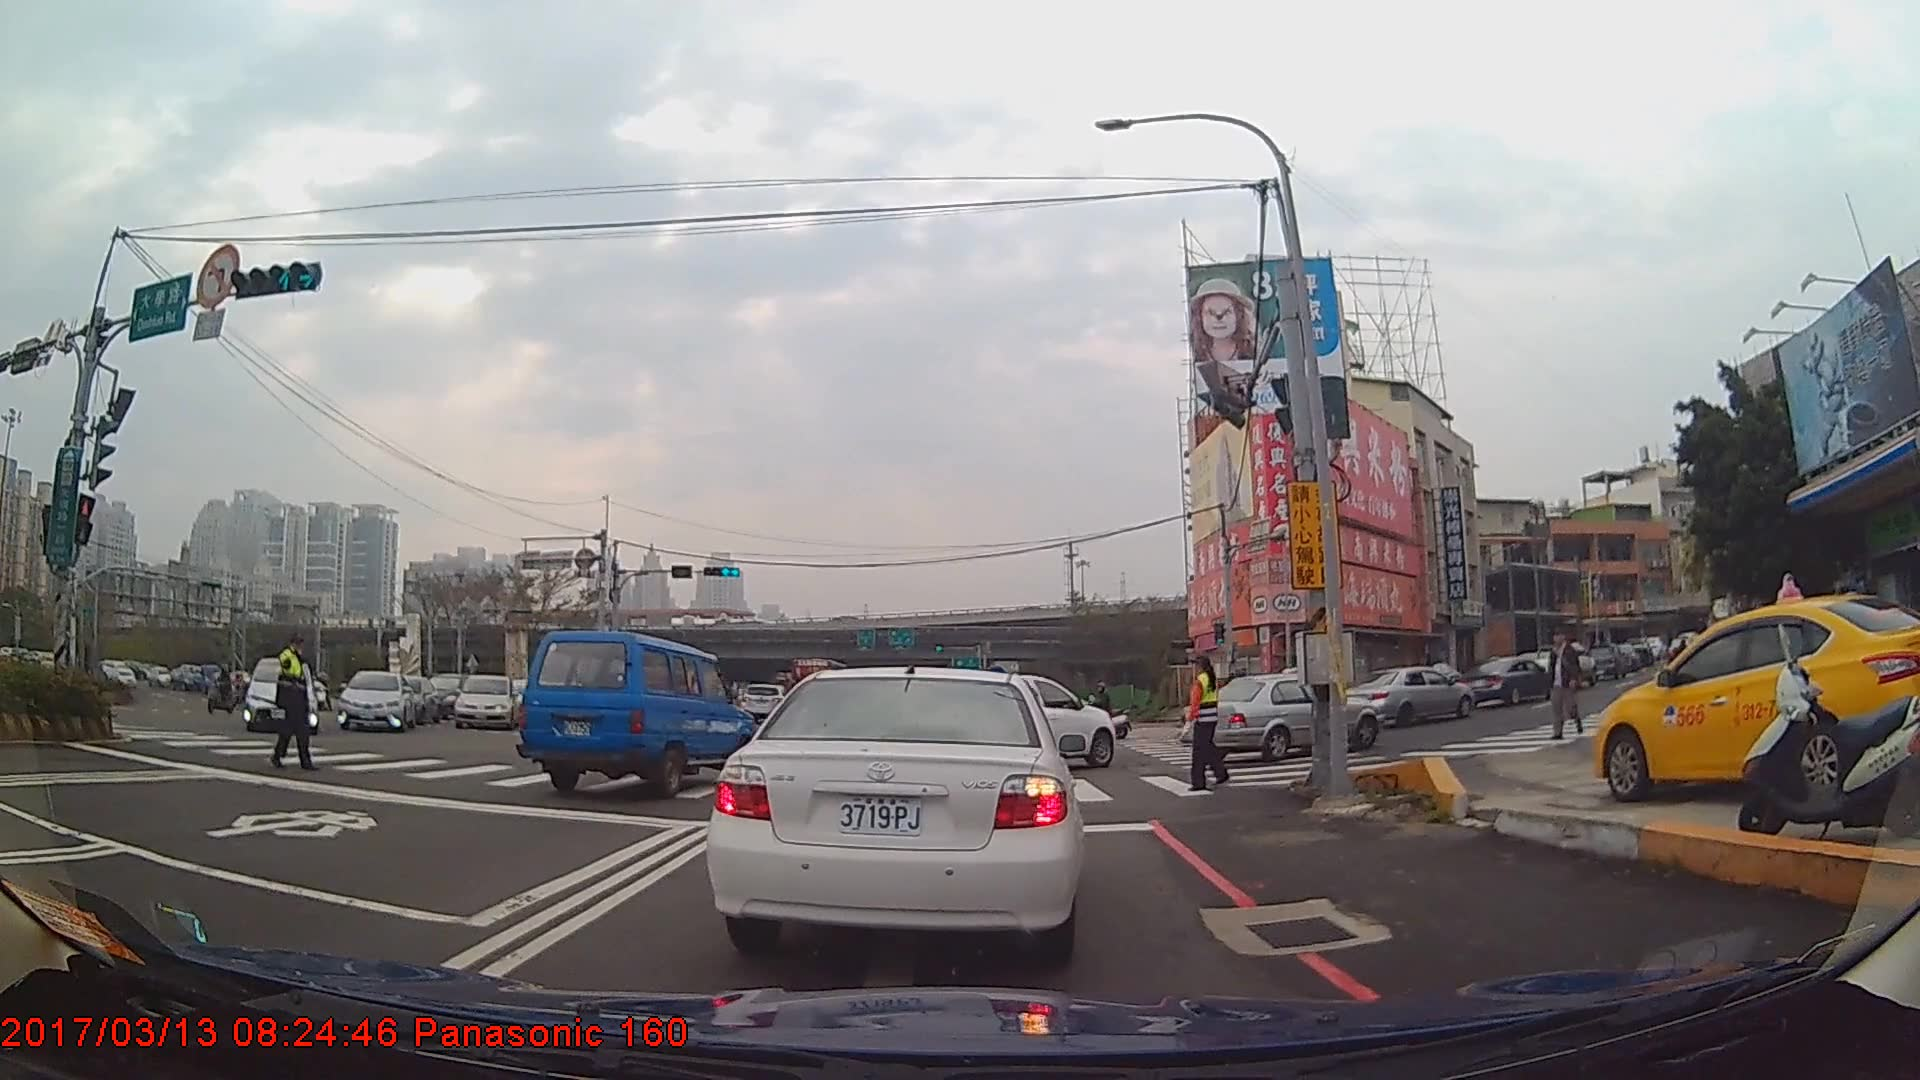pedestrian: (1160, 657, 1232, 791), (271, 635, 320, 770), (1542, 628, 1585, 743)
rider: (1071, 682, 1132, 741), (205, 660, 237, 714)
vehicle: (704, 661, 1085, 957), (1588, 592, 1918, 804), (516, 627, 762, 797), (1178, 672, 1378, 763), (934, 672, 1118, 769), (1353, 665, 1475, 727), (241, 658, 319, 735), (338, 668, 413, 732), (1467, 657, 1556, 710), (451, 673, 517, 728), (738, 682, 789, 722), (1584, 642, 1630, 681)
